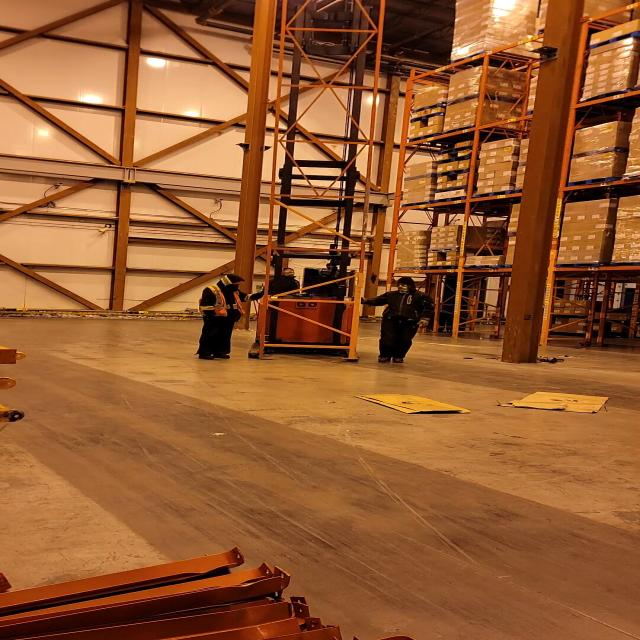forklift: (245, 166, 368, 366)
human: (357, 270, 438, 367), (190, 272, 266, 364), (263, 266, 308, 297)
objectofinterest: (230, 24, 372, 364), (354, 391, 470, 418), (499, 389, 609, 413)
